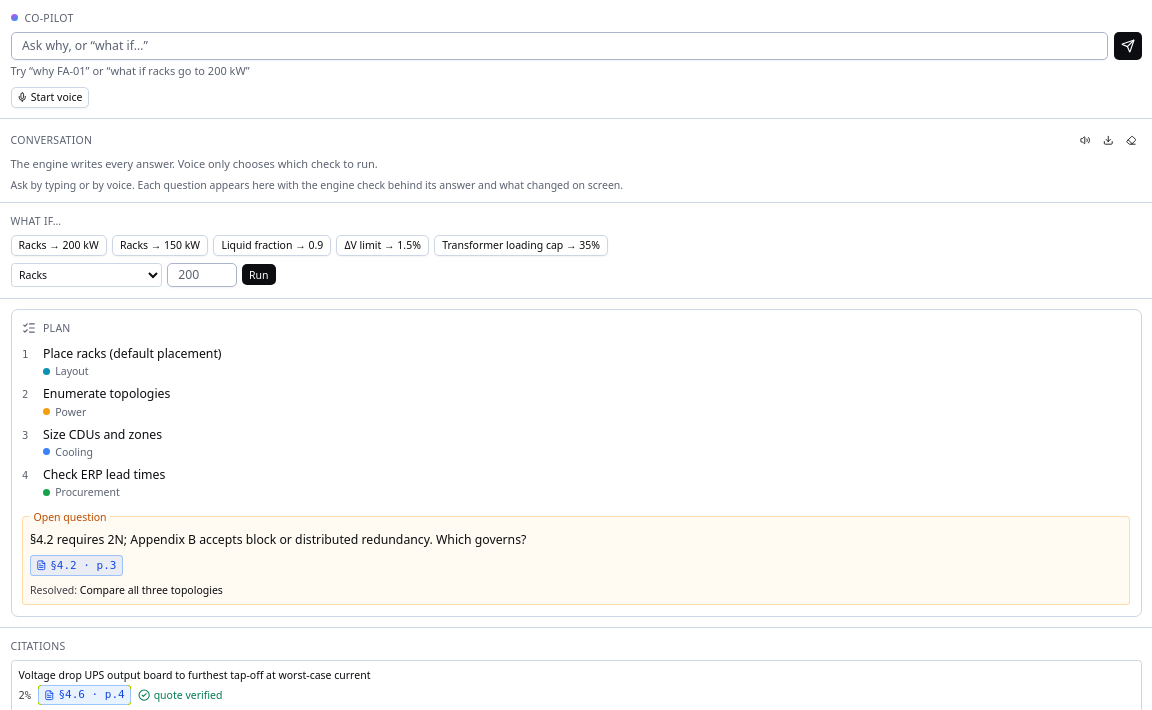
Test case: typed focus and unknown questions
Type "show H-Z2" into the field named "Ask the co-pilot" at [559, 46], box [10, 32, 1108, 60]
Then press Enter
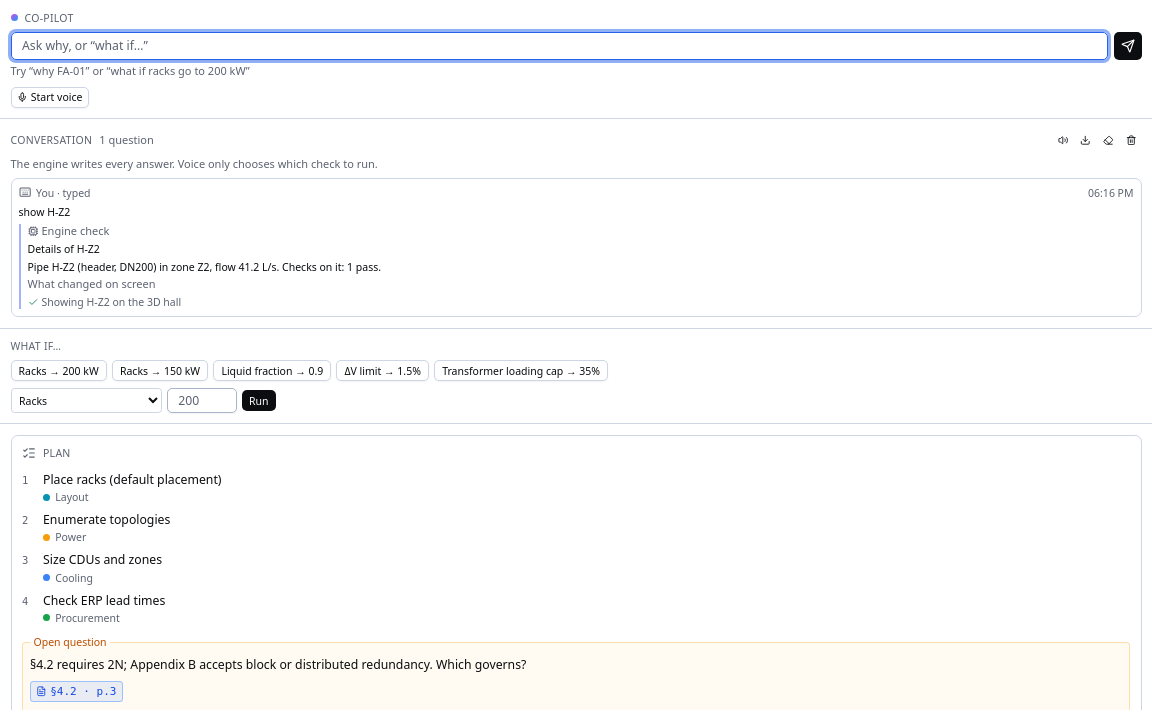
Type "hello" into the field named "Ask the co-pilot" at [559, 46], box [10, 32, 1108, 60]
Then press Enter
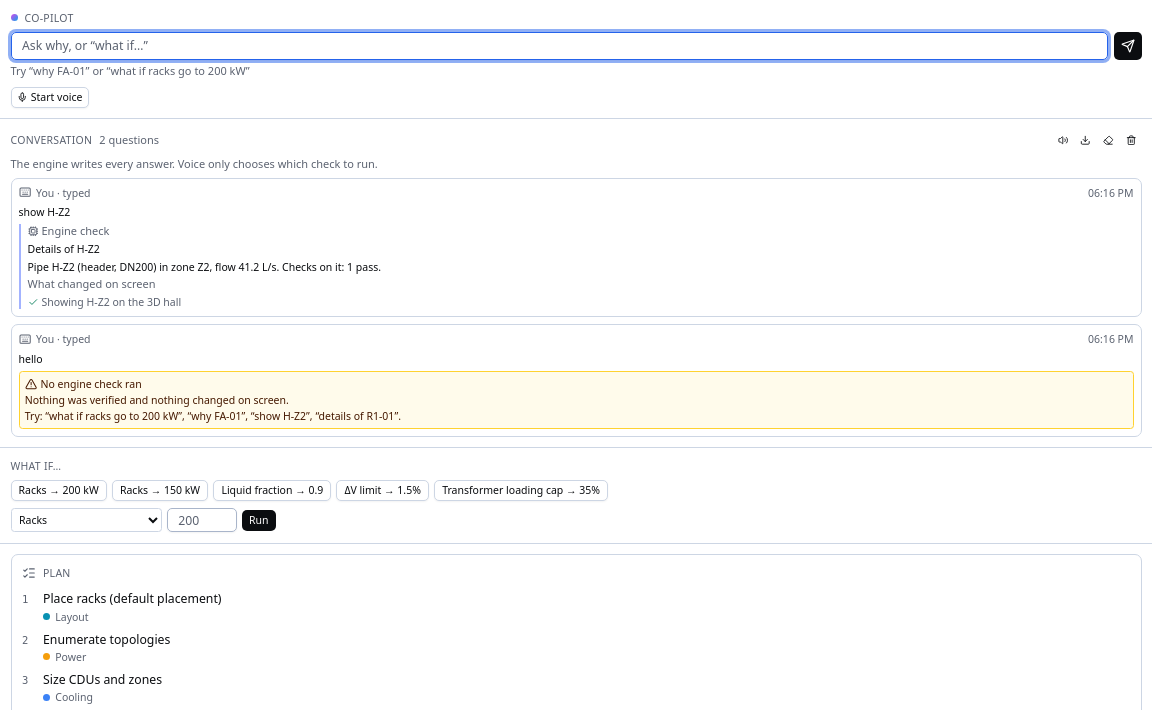
expect the text "Try: “what if racks go to 200 kW”" is shown: met, box [25, 409, 401, 423]
